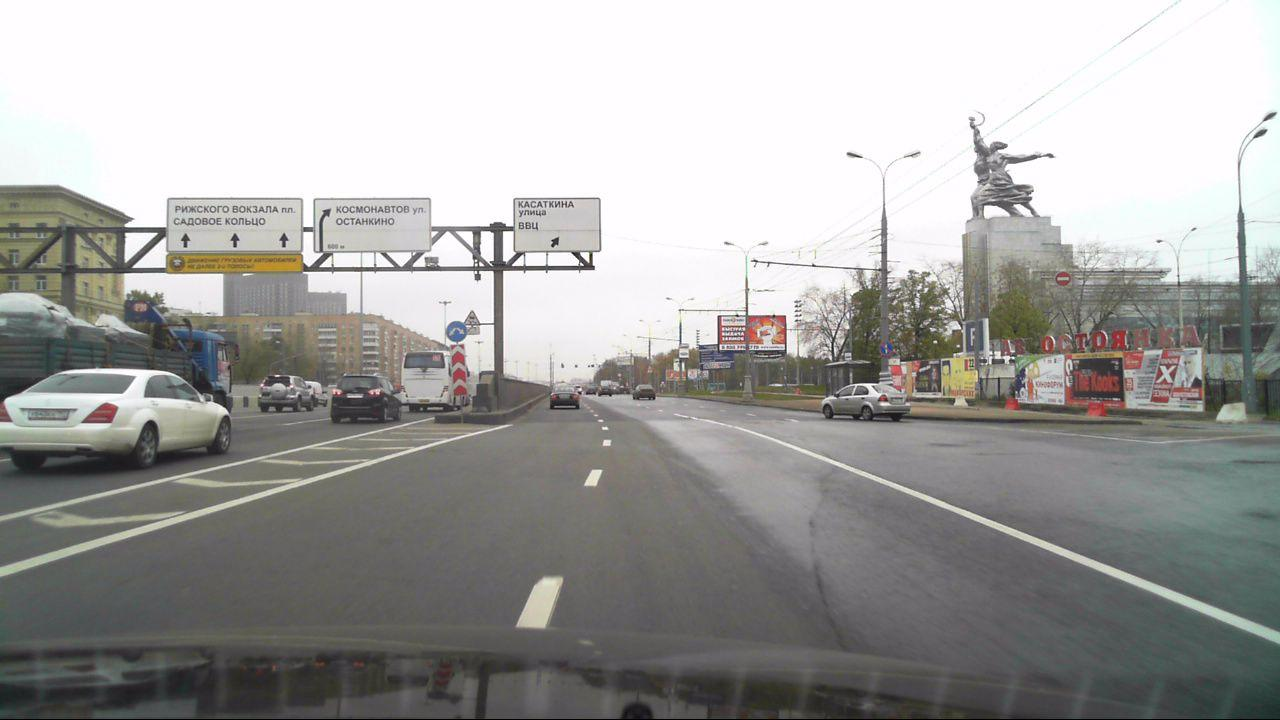road_sign: (450, 344, 467, 395), (446, 321, 467, 342), (464, 309, 482, 325), (1056, 272, 1071, 286)
